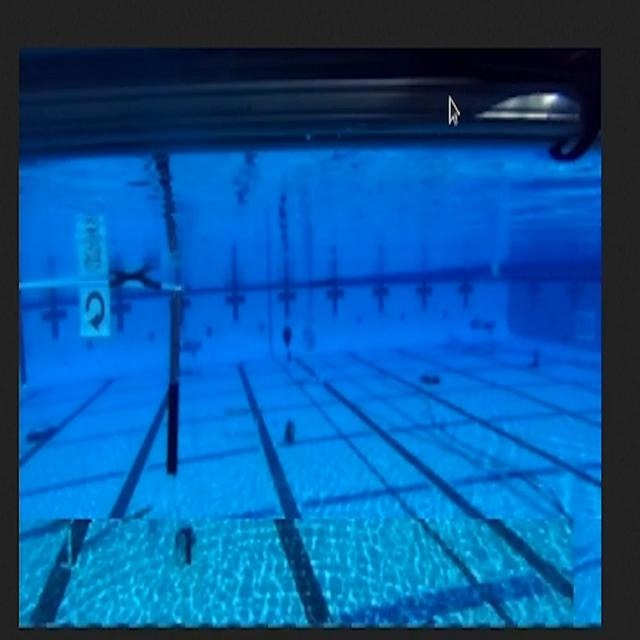Gate: (18, 258, 192, 496)
